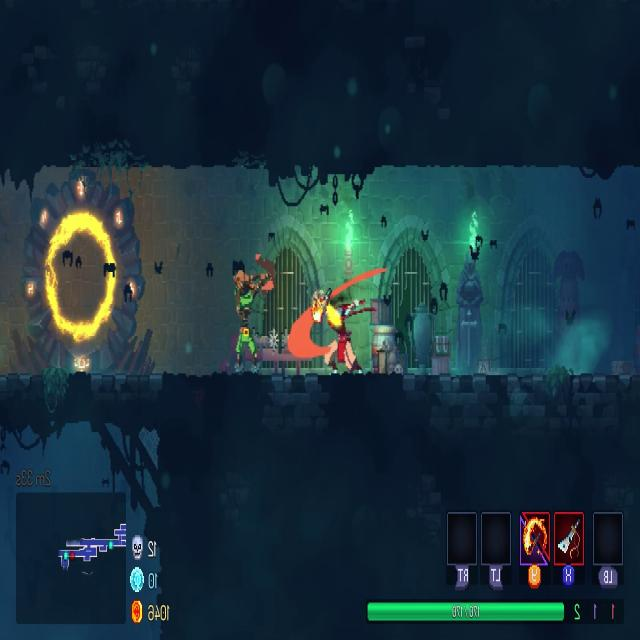agents: (322, 288, 362, 378)
enemy_archer: (230, 255, 277, 375)
